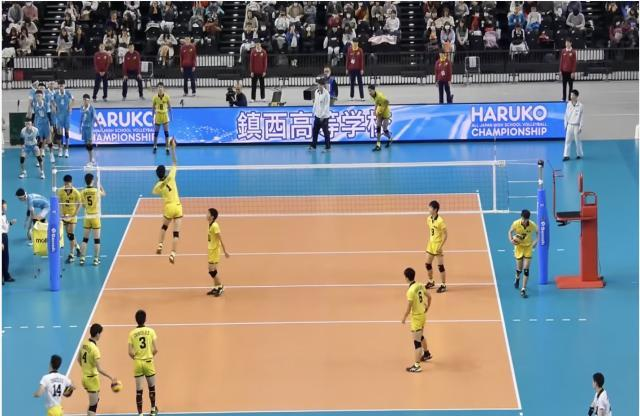spike: (152, 134, 186, 264)
